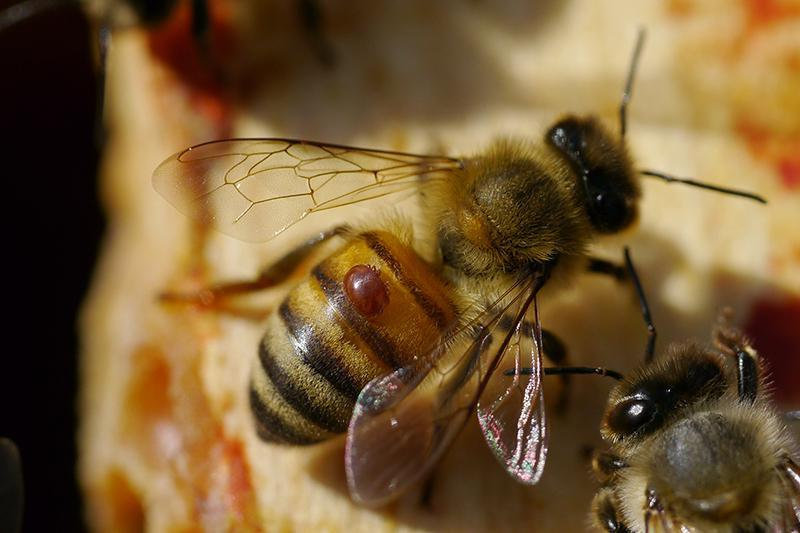Varrao: (342, 265, 391, 321)
